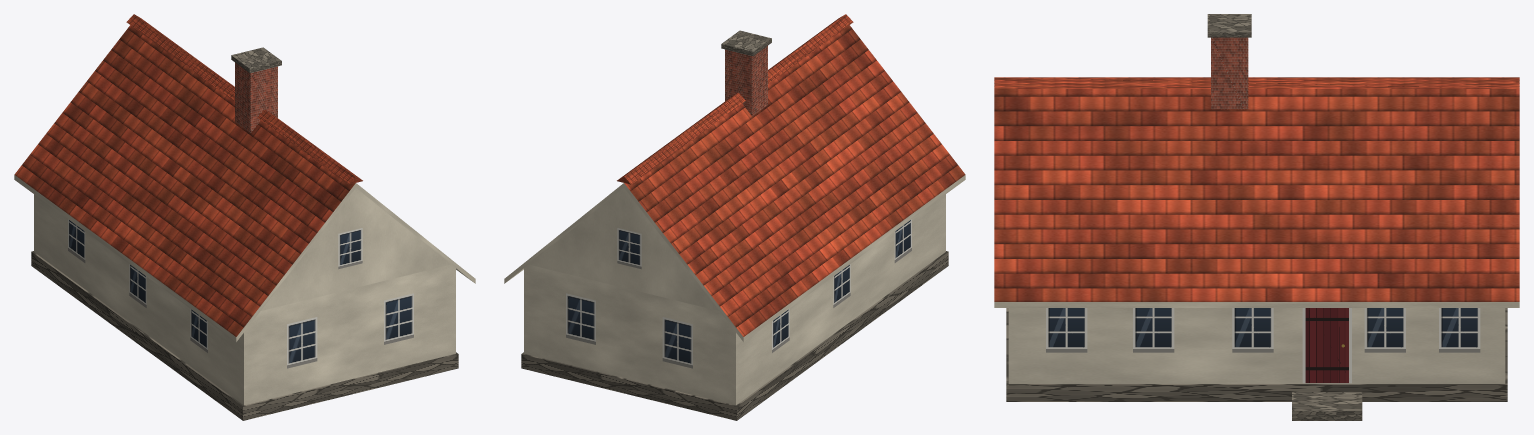
Rendered from SM_TownHouse_White.fbx.
The picture shows the model from 3 angles, left to right: view 1: azimuth 30°, elevation 25°; view 2: azimuth 150°, elevation 25°; view 3: azimuth 270°, elevation 25°; orthographic projection. The views are drawn at different scales.
Visible parts, largest first — view 1: SM_TownHouse_White; view 2: SM_TownHouse_White; view 3: SM_TownHouse_White.
Part boxes in pixels (x1=…): SM_TownHouse_White: x1=14, y1=14, x2=475, y2=420; SM_TownHouse_White: x1=504, y1=14, x2=965, y2=420; SM_TownHouse_White: x1=994, y1=14, x2=1519, y2=420.
Bounding box in the file's own units: 860 × 1270 × 844.
Materials: 1 (1 with a texture image).
